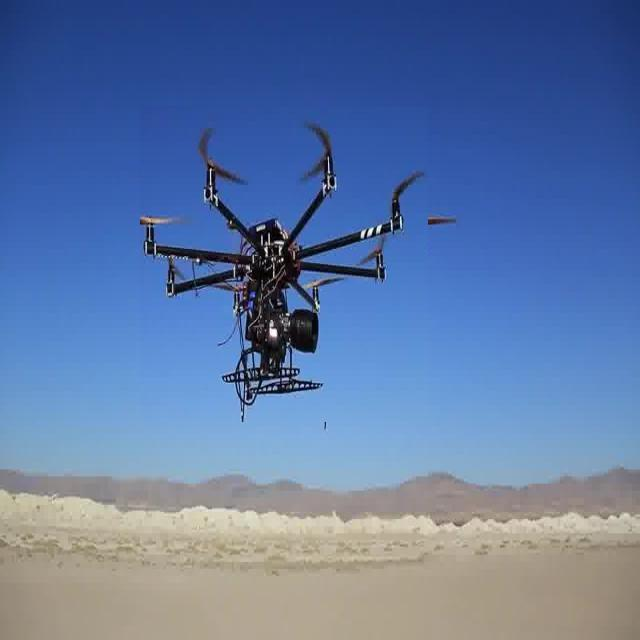drone: (140, 106, 428, 422)
